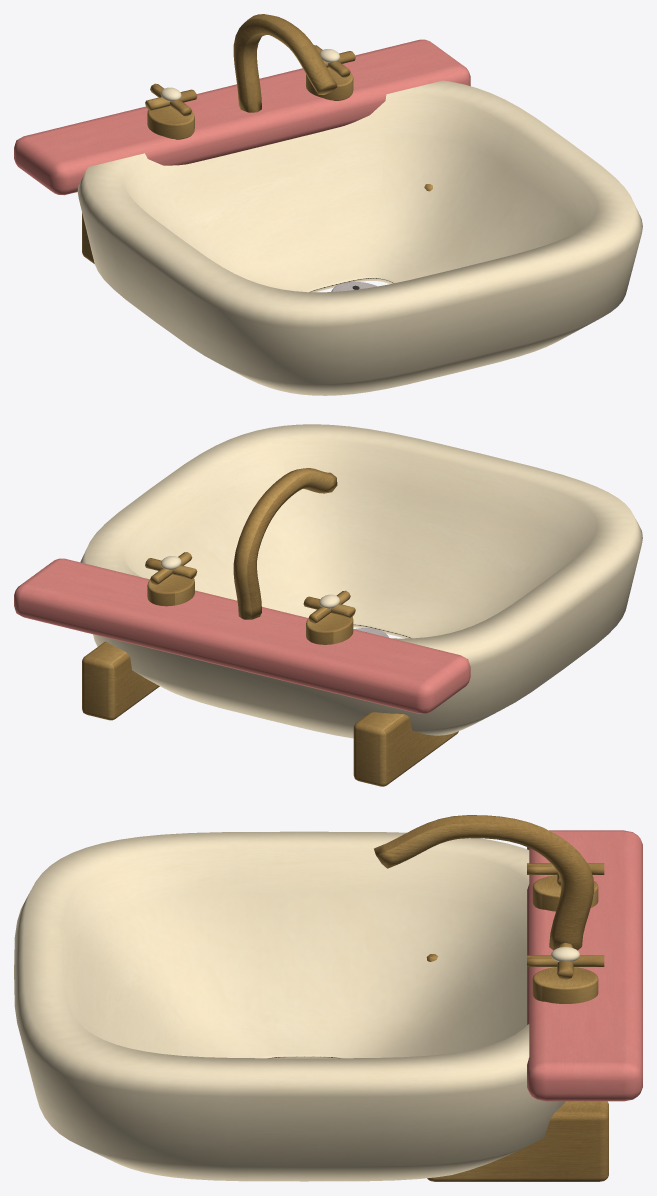
File: SM_InteriorAdditions_Washbasin.fbx
3 views of the same model, one above another, from view 1: azimuth 30°, elevation 25°; view 2: azimuth 150°, elevation 25°; view 3: azimuth 270°, elevation 25° (orthographic). The views are drawn at different scales.
Parts seen in each view (by area): view 1: SM_InteriorAdditions_Washbasin; view 2: SM_InteriorAdditions_Washbasin; view 3: SM_InteriorAdditions_Washbasin.
Boxes of the visible parts, x1,y1,x2,y2 form: SM_InteriorAdditions_Washbasin: [14, 14, 642, 395]; SM_InteriorAdditions_Washbasin: [14, 424, 642, 786]; SM_InteriorAdditions_Washbasin: [14, 815, 642, 1181].
Size of what is drawn, in the model's own units: 52.71 by 56.13 by 27.56.
